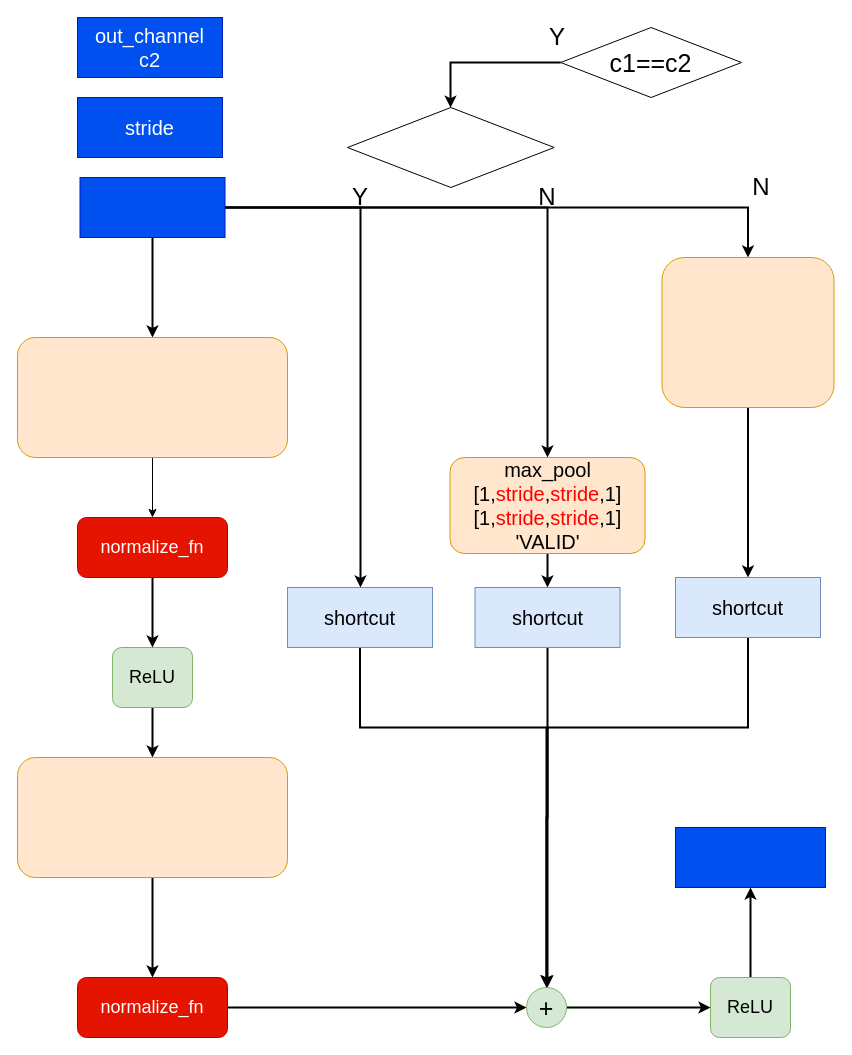
Some shapes in this 852 by 1055 pixel diagram are drawn without their labels. Here are the shapes that lost their labels. From the top down, the centre of each, then its label:
point (450, 147): stride==1?
point (152, 207): input [b,h,w,c1]
point (747, 332): conv2d kernel_size=1 in_channels= c1 out_chanels= c2 stride pad='SAME'
point (152, 397): conv2d kernel_size=3 out_channels= c2 stride pad='SAME'
point (152, 817): conv2d kernel_size=3 out_chanels= c2 stride=1 pad='SAME'
point (750, 857): out
